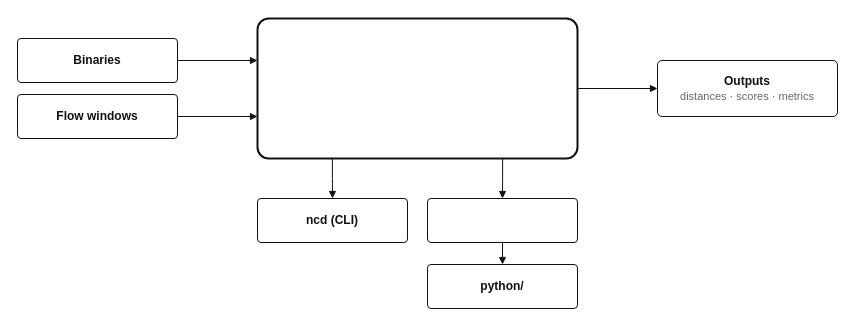
Image size: 855x326. Some labels were removed from this diagram. Each missing label, with the centre of its shape:
ncd-core (Rust) extract · codec · ncd: (x=417, y=88)
ncdthreat (PyO3): (x=502, y=220)
